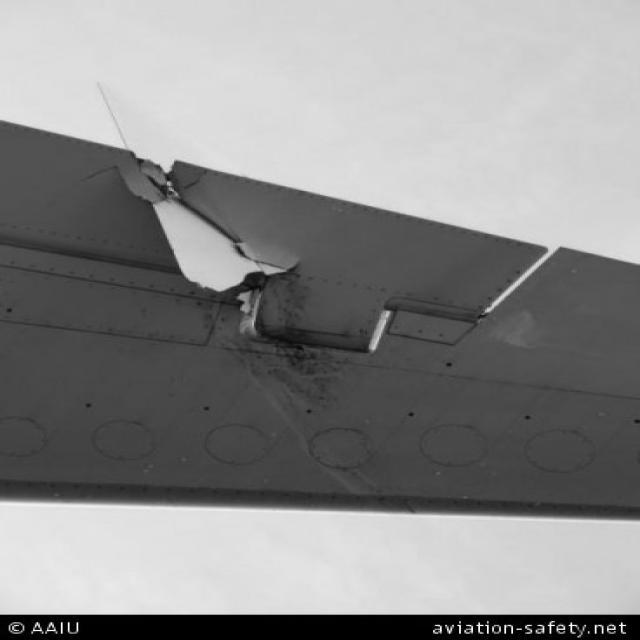crack: (81, 153, 311, 294)
